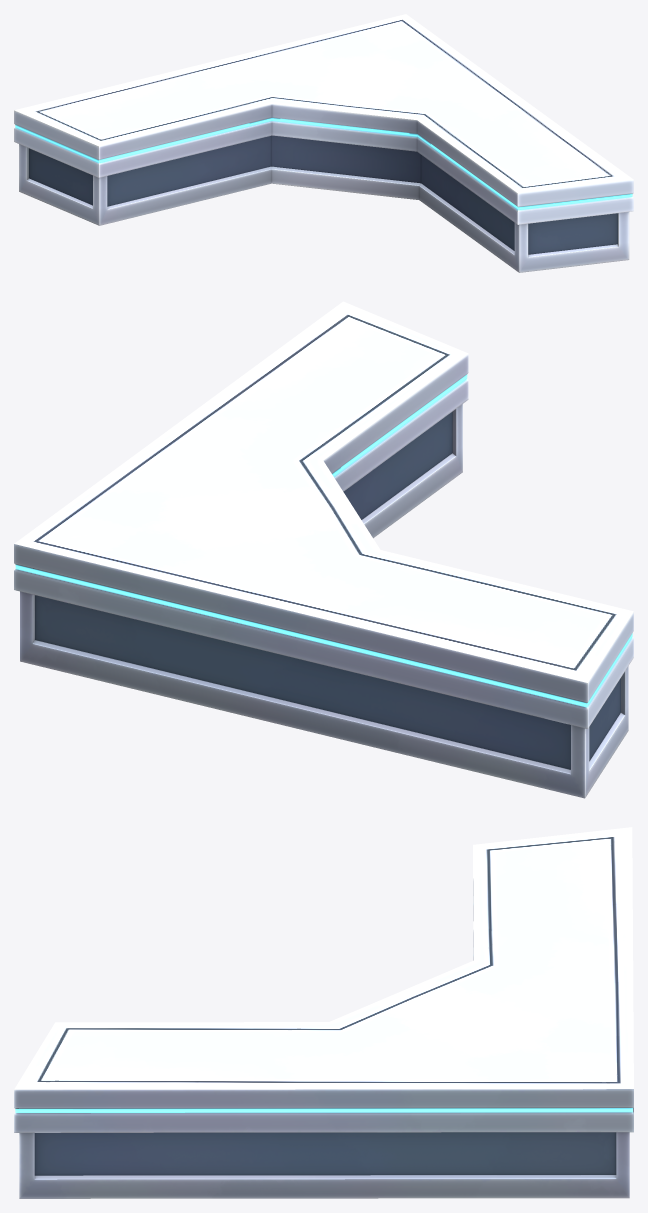
File: obj_qtable.gltf
The picture shows the model from 3 angles, top to bottom: view 1: azimuth 30°, elevation 25°; view 2: azimuth 150°, elevation 25°; view 3: azimuth 270°, elevation 25°; orthographic projection. The views are drawn at different scales.
Visible parts, largest first — view 1: obj_qtable; view 2: obj_qtable; view 3: obj_qtable.
Boxes of the visible parts, box(x1,y1,x2,y2) form: obj_qtable: box(14, 14, 633, 272); obj_qtable: box(14, 301, 633, 798); obj_qtable: box(14, 827, 633, 1198).
Size of what is drawn, in the model's own units: 3.73 by 0.7336 by 3.72.
Materials: 1 (1 with a texture image).
